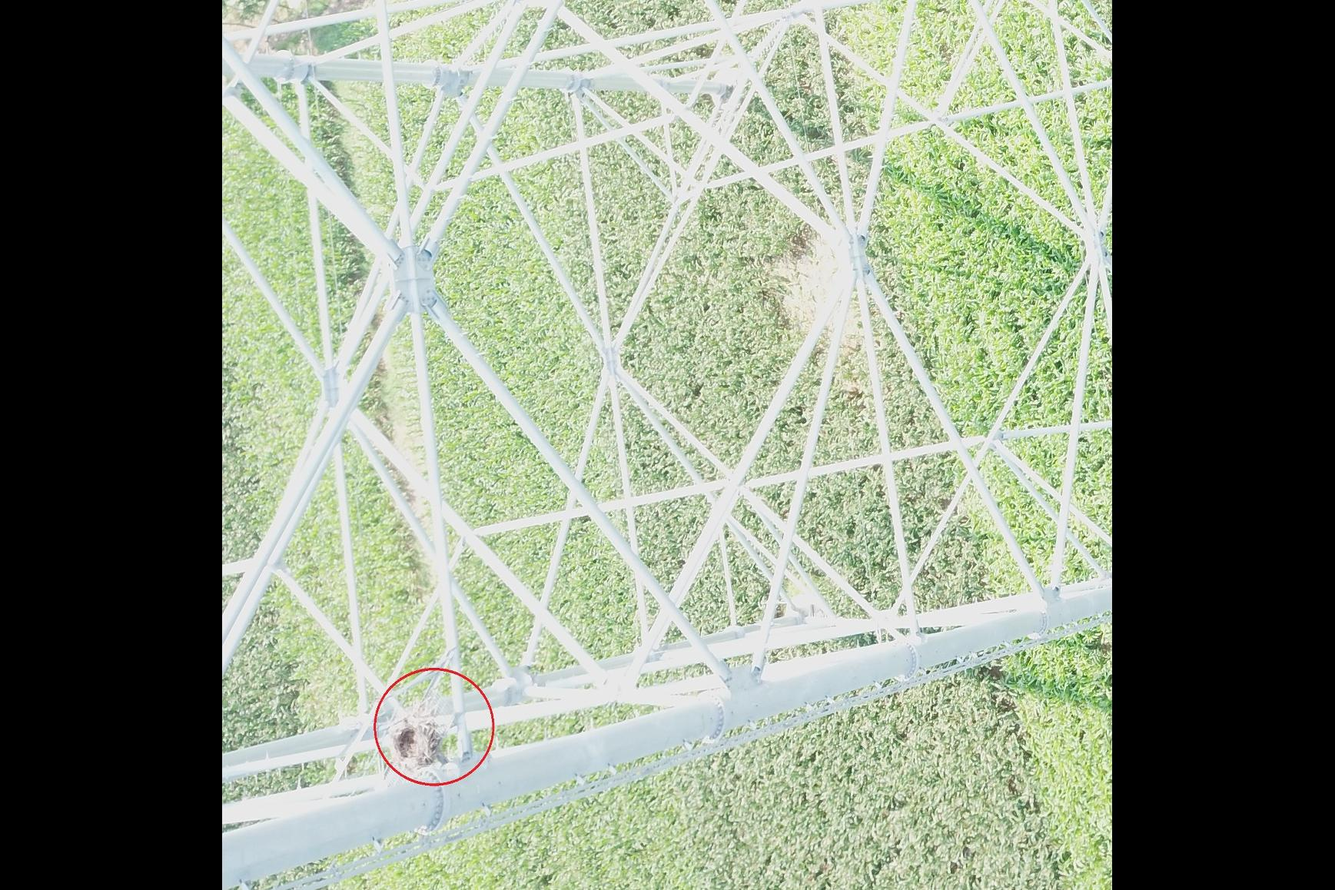nest: (380, 695, 454, 770)
